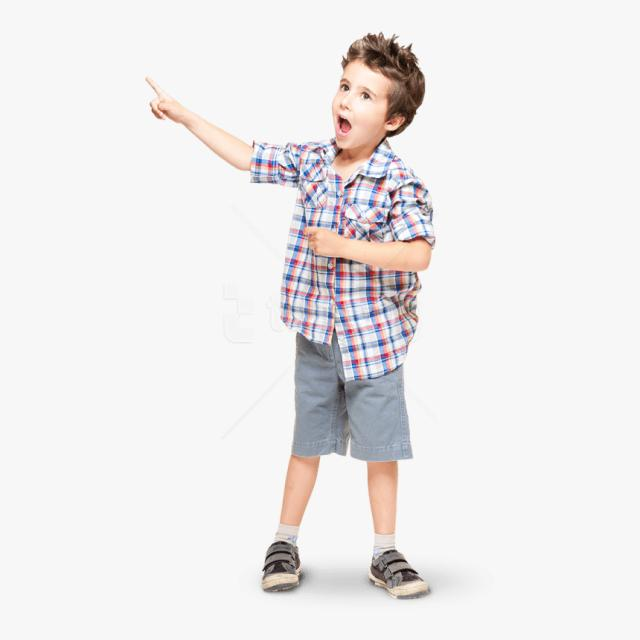child: (127, 21, 450, 614)
